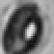correct: (0, 0, 49, 52), (0, 0, 45, 52)
